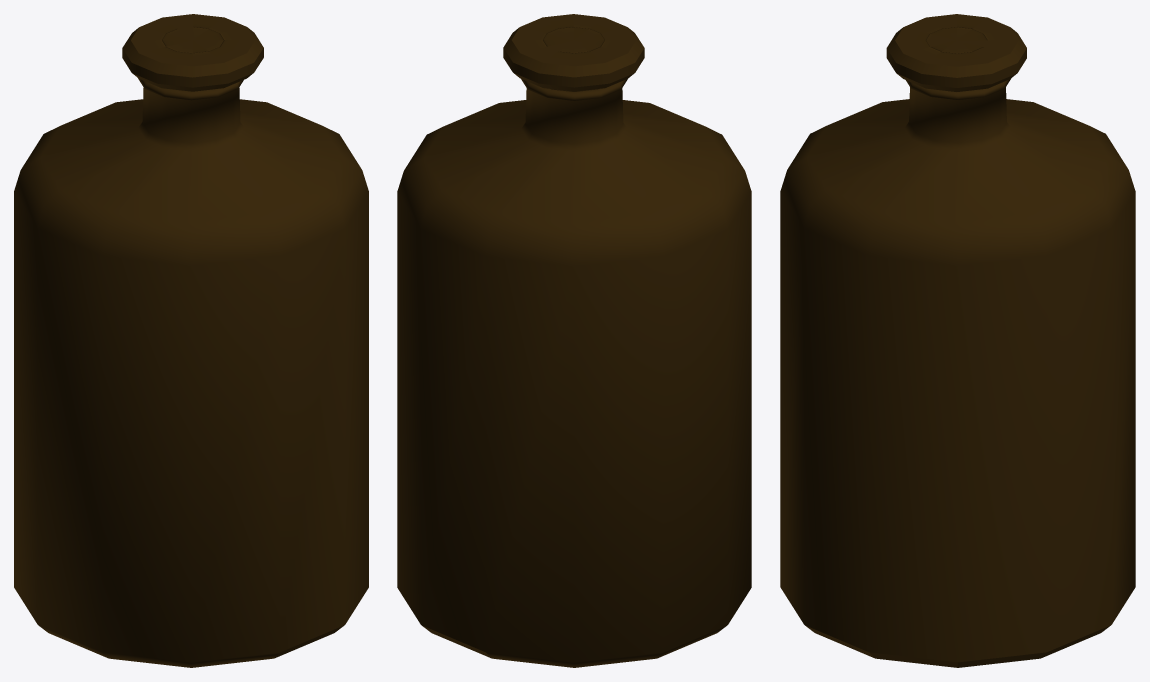
Rendered from chemical_jar_c_125ml002.FBX.
3 views of the same model, side by side, from view 1: azimuth 30°, elevation 25°; view 2: azimuth 150°, elevation 25°; view 3: azimuth 270°, elevation 25° (orthographic).
Visible parts, largest first — view 1: chemical_jar_c_125ml002; view 2: chemical_jar_c_125ml002; view 3: chemical_jar_c_125ml002.
Part boxes in pixels (x1=…): chemical_jar_c_125ml002: x1=14, y1=14, x2=368, y2=667; chemical_jar_c_125ml002: x1=397, y1=14, x2=751, y2=667; chemical_jar_c_125ml002: x1=780, y1=14, x2=1135, y2=667.
Bounding box in the file's own units: 5.61 × 9.74 × 5.61.
